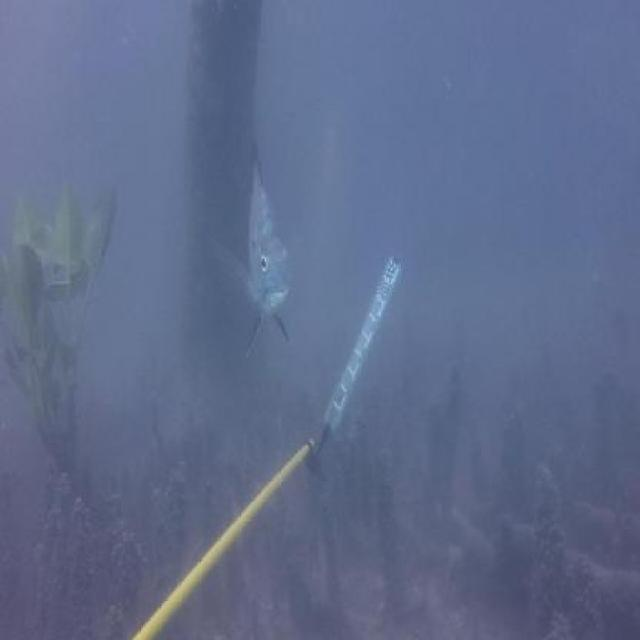acanthopagrus_palmaris: (211, 123, 300, 360)
